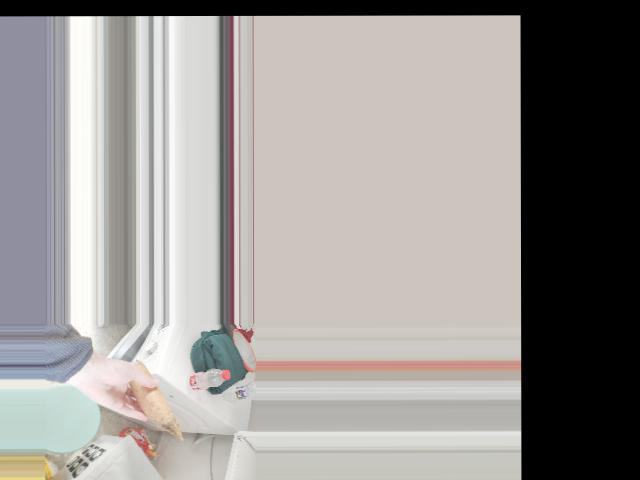sweet_potato: (133, 369, 169, 419)
